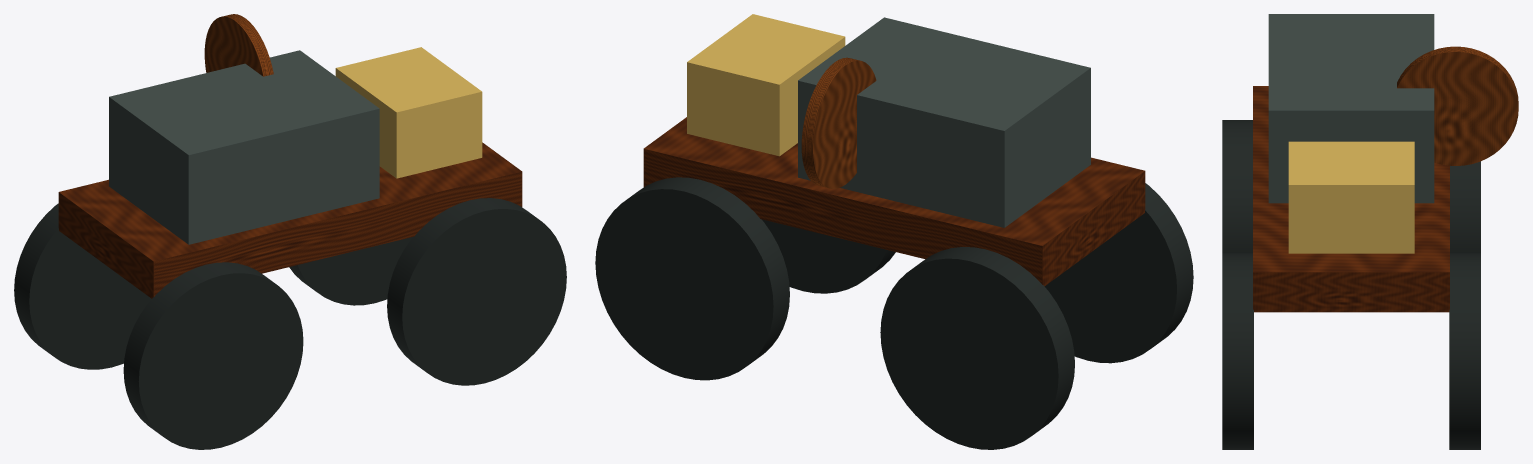
Rendered from motorwagen.glb.
The picture shows the model from 3 angles, left to right: view 1: azimuth 30°, elevation 25°; view 2: azimuth 150°, elevation 25°; view 3: azimuth 270°, elevation 25°; orthographic projection. The views are drawn at different scales.
Bounding box in the file's own units: 3.25 × 2.27 × 1.88.
5 materials, 2 textured.
